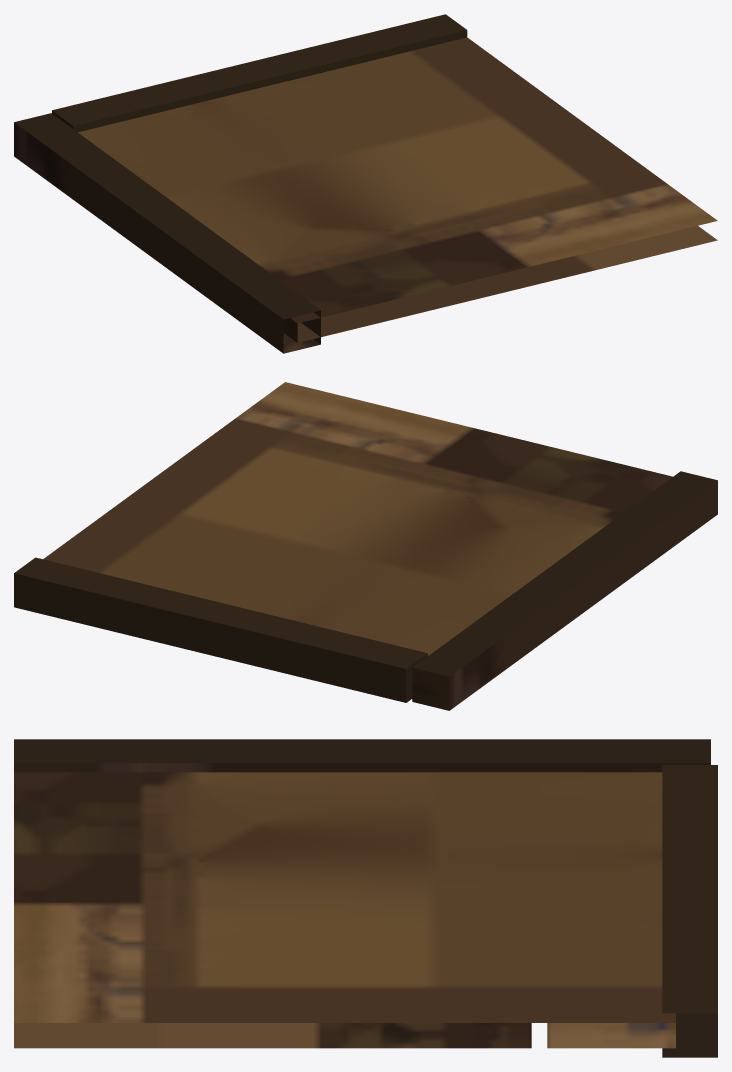
Rendered from section-3.obj.
The picture shows the model from 3 angles, top to bottom: view 1: azimuth 30°, elevation 25°; view 2: azimuth 150°, elevation 25°; view 3: azimuth 270°, elevation 25°; orthographic projection. The views are drawn at different scales.
Bounding box in the file's own units: 0.93 × 0.07 × 1.01.
